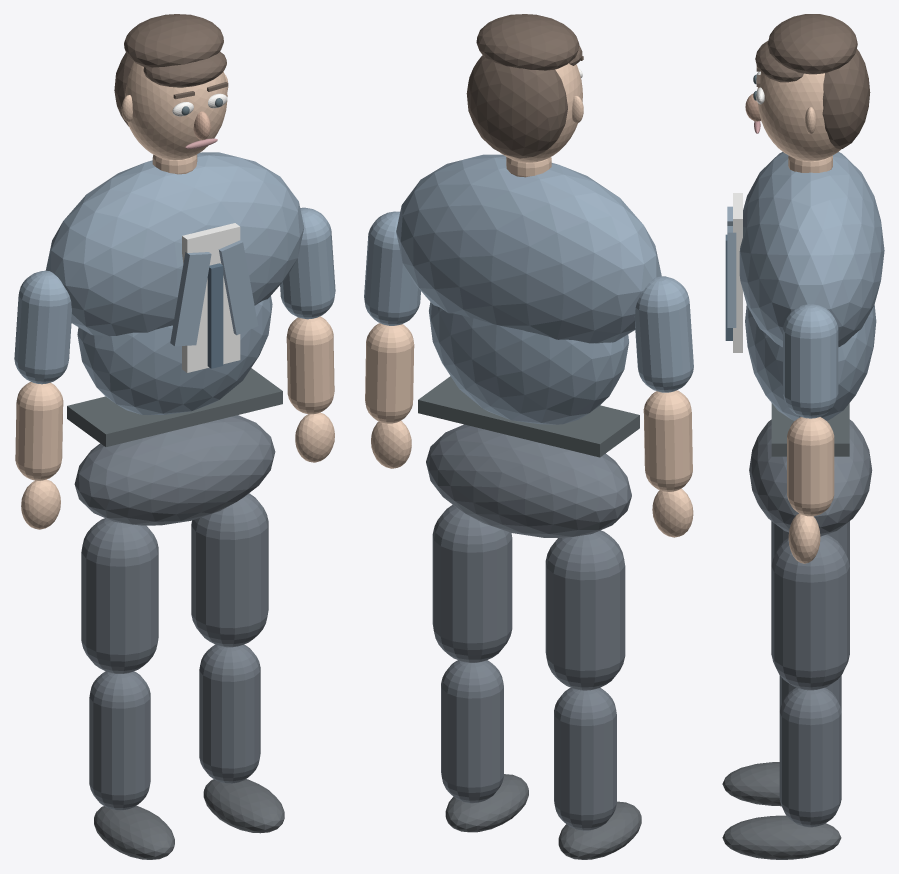
File: guest_male.glb
3 views of the same model, side by side, from view 1: azimuth 30°, elevation 25°; view 2: azimuth 150°, elevation 25°; view 3: azimuth 270°, elevation 25° (orthographic). The views are drawn at different scales.
Visible parts, largest first — view 1: Chest, Hips, LeftUpLeg, Spine, RightUpLeg, RightLeg, LeftLeg, Belt, Head, LeftArm, LeftForeArm, RightForeArm (+13 smaller); view 2: Chest, Hips, Spine, LeftUpLeg, RightUpLeg, LeftLeg, RightLeg, HairBack, Belt, LeftArm, HairTop, LeftForeArm (+8 smaller); view 3: Chest, RightUpLeg, RightLeg, Hips, RightArm, Spine, Head, RightForeArm, HairTop, RightFoot, HairBack, LeftFoot (+9 smaller).
Part boxes in pixels (x1,y1,x2,y2): Chest: (45,152,304,336); Hips: (74,415,275,525); LeftUpLeg: (81,518,158,673); Spine: (77,296,272,415); RightUpLeg: (191,493,268,647); RightLeg: (199,644,260,783); LeftLeg: (89,671,150,810); Belt: (67,368,282,446); Head: (125,62,227,160); LeftArm: (14,270,71,384); LeftForeArm: (15,382,63,480); RightForeArm: (286,316,334,414); Chest: (396,154,661,343); Hips: (426,424,631,537); Spine: (429,302,628,424); LeftUpLeg: (545,530,625,690); RightUpLeg: (432,505,512,662); LeftLeg: (554,687,616,830); RightLeg: (441,660,503,803); HairBack: (466,55,567,158); Belt: (418,376,639,457); LeftArm: (634,276,693,392); HairTop: (476,14,579,70); LeftForeArm: (643,390,692,491); Chest: (739,152,884,347); RightUpLeg: (771,534,849,690); RightLeg: (779,687,841,827); Hips: (749,419,872,536); RightArm: (783,304,838,418); Spine: (745,305,876,420); Head: (757,72,841,161); RightForeArm: (787,417,834,516); HairTop: (767,14,857,74); RightFoot: (722,815,841,859); HairBack: (822,49,870,149); LeftFoot: (722,762,781,806).
Bounding box in the file's own units: 0.887 × 2.16 × 0.395.
